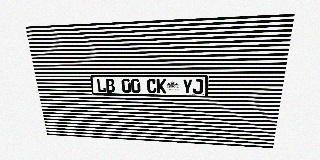plate: (90, 75, 209, 97)
